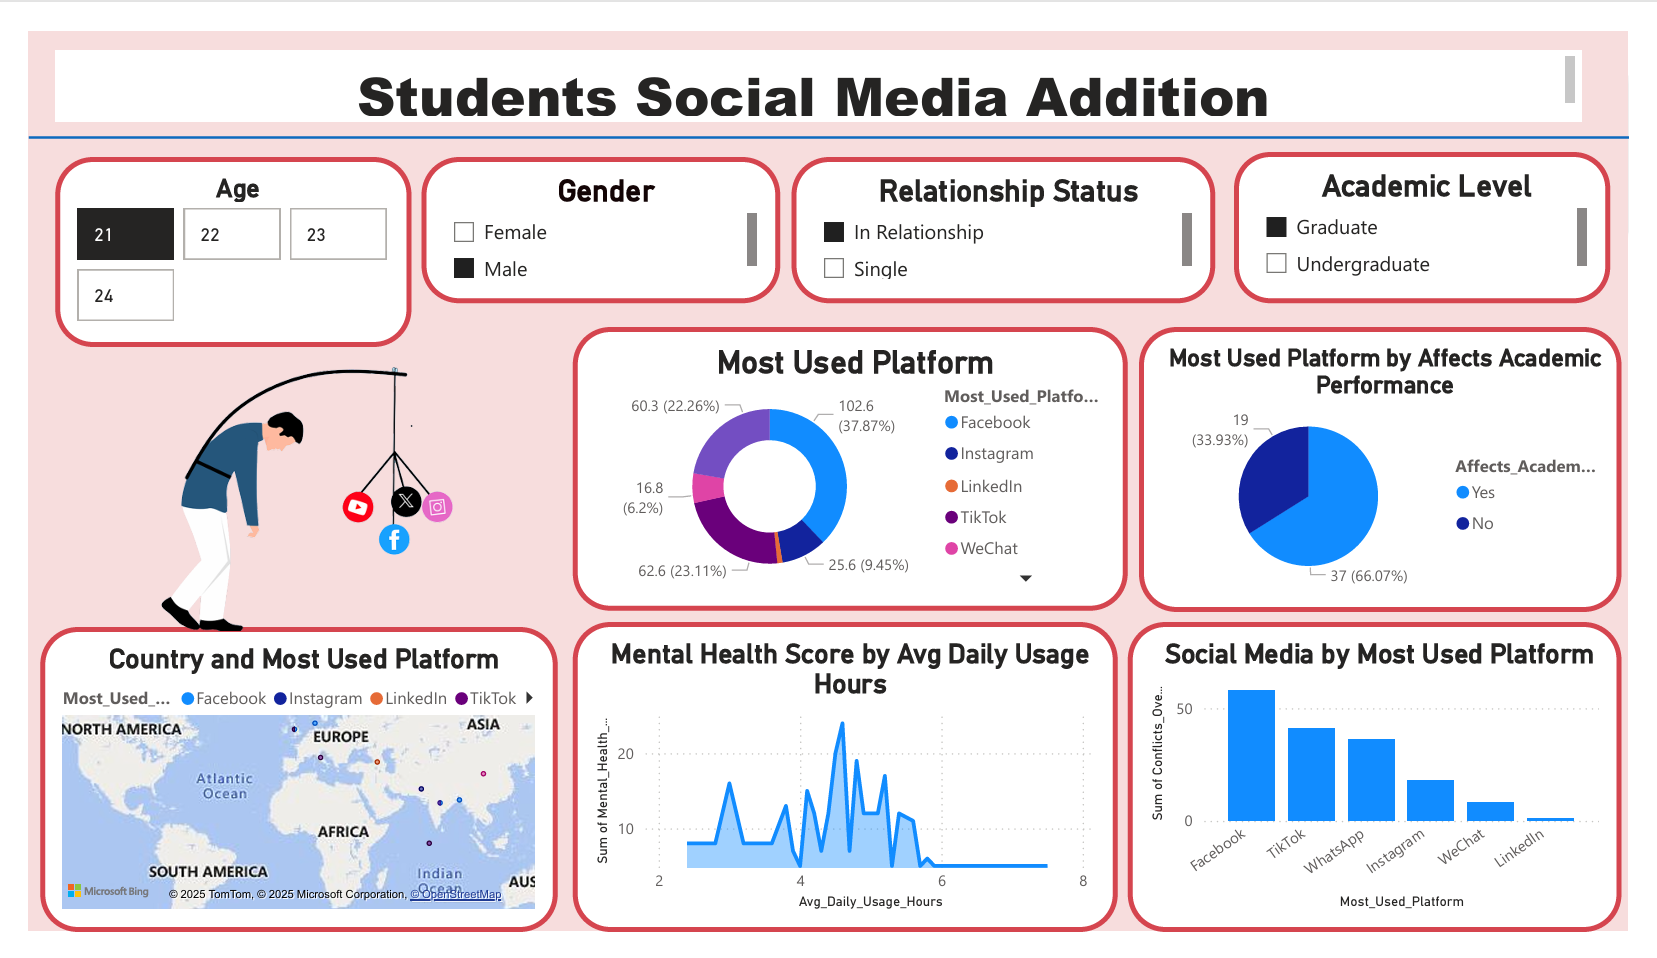

Layout of this report page (visuals, bound fields, positions):
{"tool":"powerbi","page":{"name":"Page 1","canvas":[1280,720],"ordinal":0},"visuals":[{"type":"textbox","box":[20.9,15.1,1220.9,57],"z":0},{"type":"shape","box":[0,0,1280,169],"z":1000},{"type":"slicer","title":"Gender","fields":{"Values":["Students Social Media Addiction.Gender"]},"box":[313.5,99.9,287.3,117.4],"z":2000},{"type":"slicer","title":"Relationship Status","fields":{"Values":["Students Social Media Addiction.Relationship_Status"]},"box":[609.5,99.9,339.7,117.4],"z":3000},{"type":"slicer","title":"Academic Level","fields":{"Values":["Students Social Media Addiction.Academic_Level"]},"box":[964.2,96.2,301,121.2],"z":4000},{"type":"donutChart","title":" Most Used Platform","fields":{"Series":["Students Social Media Addiction.Most_Used_Platform"],"Y":["Sum(Students Social Media Addiction.Avg_Daily_Usage_Hours)"]},"box":[444.7,236.1,425.9,221.1],"z":5000},{"type":"map","title":"Country and Most Used Platform","fields":{"Category":["Students Social Media Addiction.Country"],"Series":["Students Social Media Addiction.Most_Used_Platform"]},"box":[9.1,475.8,413.7,244.4],"z":6000},{"type":"areaChart","title":"Mental Health Score by Avg Daily Usage Hours","fields":{"Y":["CountNonNull(Students Social Media Addiction.Mental_Health_Score)"],"Category":["Students Social Media Addiction.Avg_Daily_Usage_Hours"]},"box":[437.2,472.1,433.4,234.8],"z":7000},{"type":"lineStackedColumnComboChart","title":"Social Media by Most Used Platform","fields":{"Category":["Students Social Media Addiction.Most_Used_Platform"],"Y":["Sum(Students Social Media Addiction.Conflicts_Over_Social_Media)"]},"box":[890.6,472.1,374.7,234.8],"z":8000},{"type":"pieChart","fields":{"Y":["CountNonNull(Students Social Media Addiction.Most_Used_Platform)"],"Category":["Students Social Media Addiction.Affects_Academic_Performance"]},"box":[890.6,236.1,383.5,227.3],"z":9000},{"type":"advancedSlicerVisual","fields":{"Values":["Students Social Media Addiction.Age"]},"box":[20.7,99.6,285.7,152.6],"z":10000},{"type":"image","box":[0,188.8,406,314.2],"z":11000}]}

Visuals, with their boxes in screenshot pixels (x1, y1, x2, y2), scaled from the page's 1280x720 canvas onto the 1657x958 screenshot:
textbox: x1=27 y1=20 x2=1608 y2=96
shape: x1=0 y1=0 x2=1656 y2=225
"Gender" slicer: x1=406 y1=133 x2=778 y2=289
"Relationship Status" slicer: x1=789 y1=133 x2=1229 y2=289
"Academic Level" slicer: x1=1248 y1=128 x2=1638 y2=289
" Most Used Platform" donutChart: x1=576 y1=314 x2=1127 y2=608
"Country and Most Used Platform" map: x1=12 y1=633 x2=547 y2=957
"Mental Health Score by Avg Daily Usage Hours" areaChart: x1=566 y1=628 x2=1127 y2=941
"Social Media by Most Used Platform" lineStackedColumnComboChart: x1=1153 y1=628 x2=1638 y2=941
pieChart - CountNonNull(Students Social Media Addiction.Most_Used_Platform) x Students Social Media Addiction.Affects_Academic_Performance: x1=1153 y1=314 x2=1649 y2=617
advancedSlicerVisual - Students Social Media Addiction.Age: x1=27 y1=133 x2=397 y2=336
image: x1=0 y1=251 x2=526 y2=669
